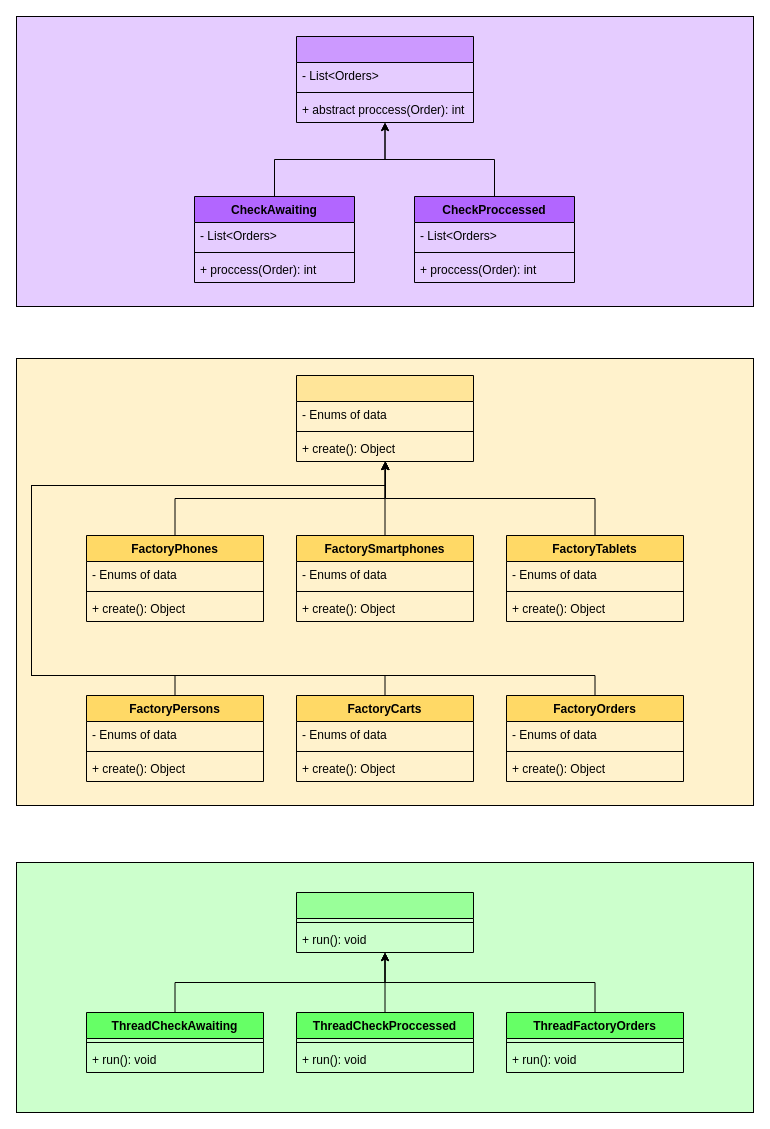
The diagram is 770 pixels wide and 1129 high, and some of its shapes have lost their labels. Each missing label, with the box of its shape:
ACheck: (296, 36, 474, 122)
AFactory: (296, 374, 474, 462)
Thread: (296, 892, 474, 952)
